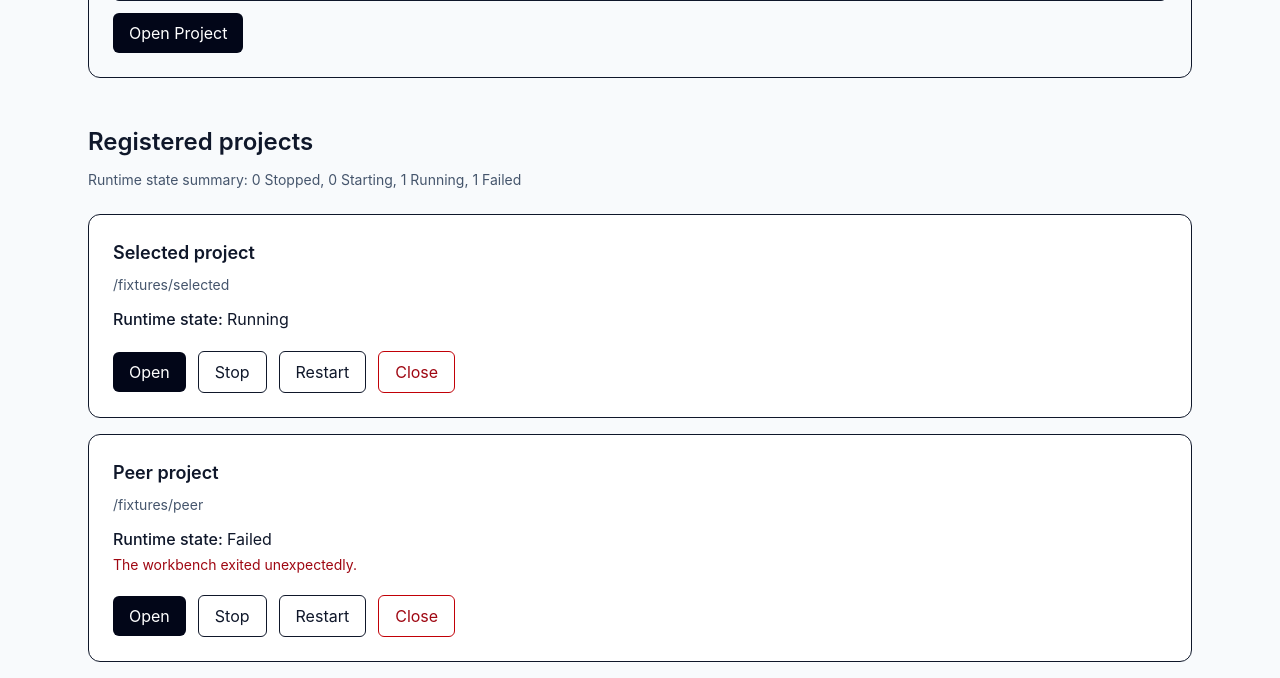
Project Home Restart interaction › renders retry and explicit unknown recovery without automatic refresh
(page scrolled)
Expected: the text labelled "Runtime state summary" is shown, [88, 171, 521, 188]
Click the button with aria-label "Restart Selected project workbench": (322, 372) [278, 351, 366, 393]
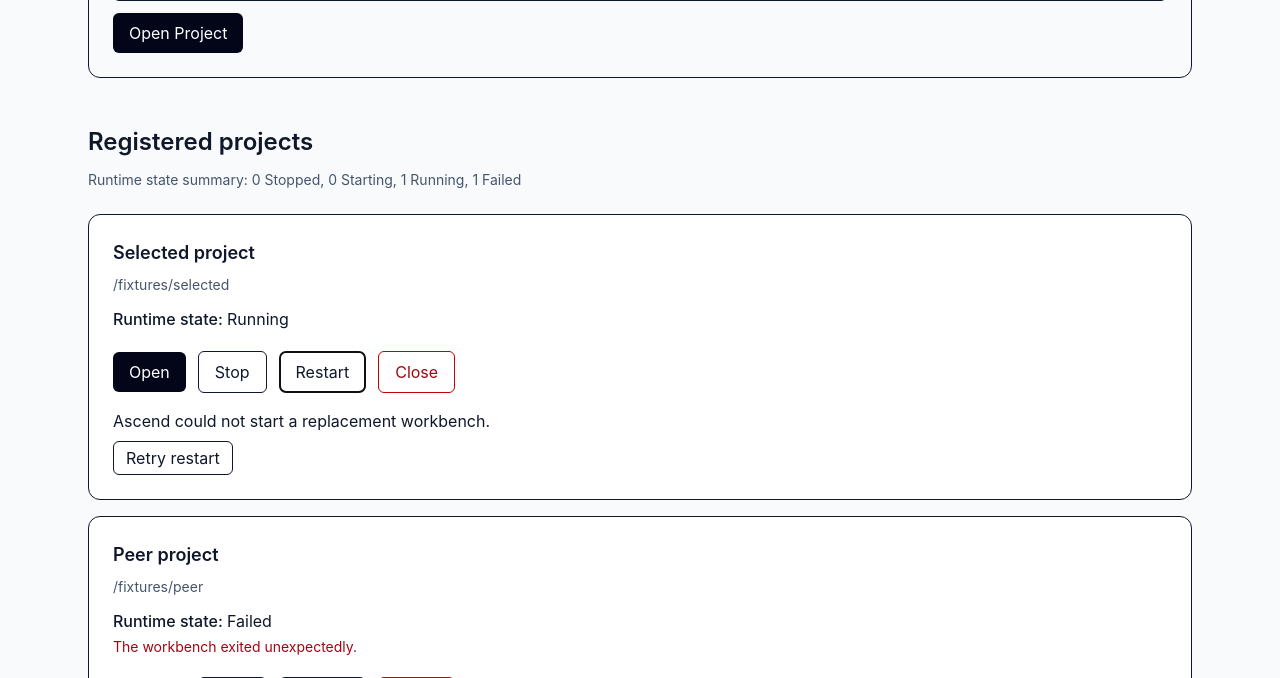
Expected: the button "Retry restart" is shown
Expected: the message shows "Ascend could not start a replacement workbench.", [113, 411, 490, 431]
Click the button "Retry restart": (173, 458) [113, 441, 233, 475]
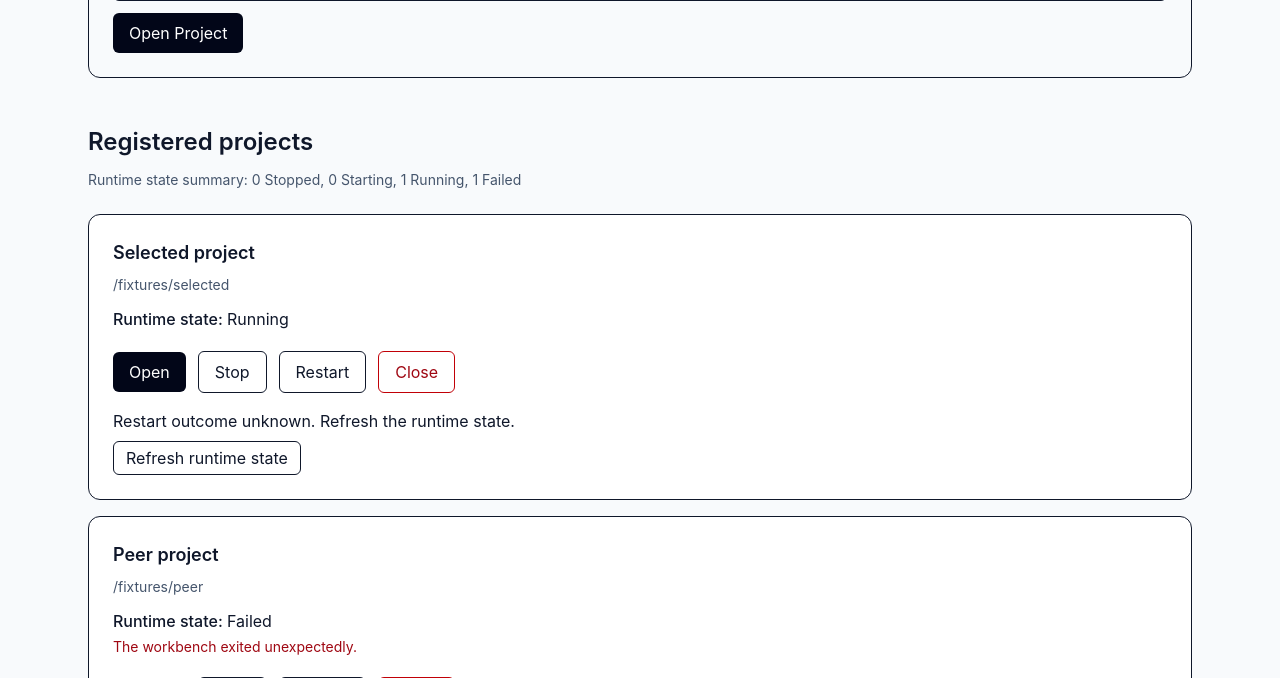
Expected: the button "Refresh runtime state" is shown, [113, 441, 301, 475]
